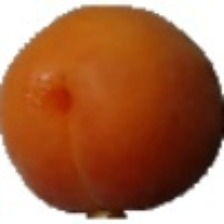apricot: (3, 14, 178, 196)
